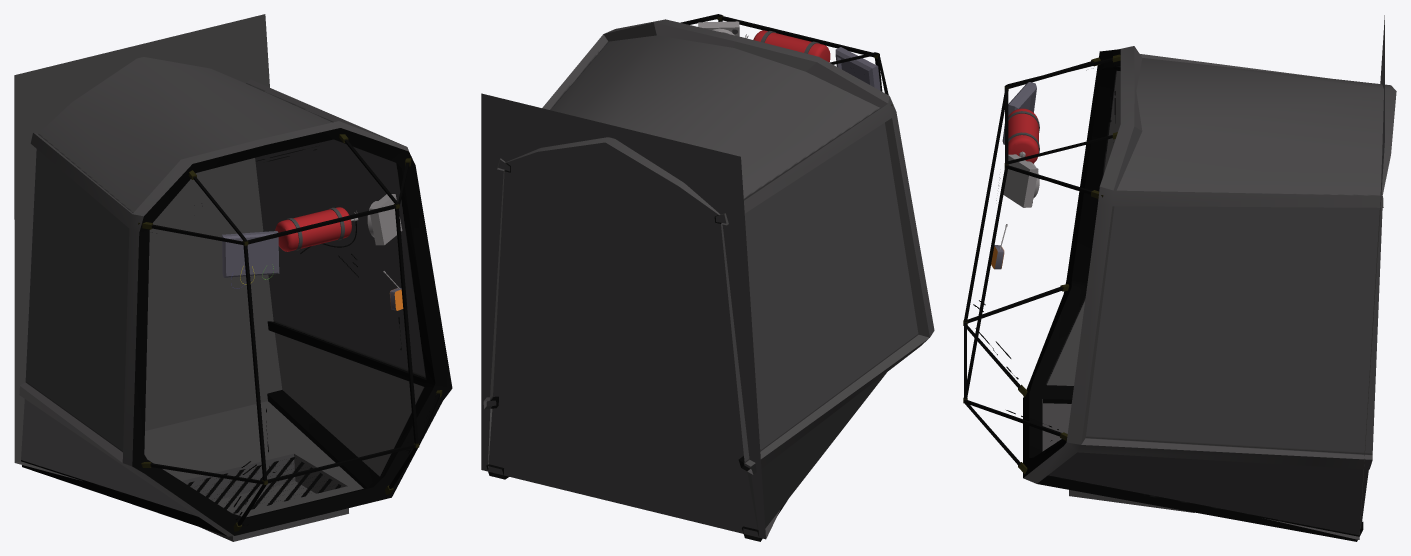
Rendered from Mech_Cockpit_Mesh.fbx.
The picture shows the model from 3 angles, left to right: view 1: azimuth 30°, elevation 25°; view 2: azimuth 150°, elevation 25°; view 3: azimuth 270°, elevation 25°; orthographic projection. The views are drawn at different scales.
Parts seen in each view (by area): view 1: Mech cockpit; view 2: Mech cockpit; view 3: Mech cockpit.
Part boxes in pixels (bbox=[...]): Mech cockpit: bbox=[14, 14, 452, 541]; Mech cockpit: bbox=[481, 14, 934, 541]; Mech cockpit: bbox=[963, 15, 1396, 541].
Size of the model in its own units: 302 by 343 by 334.
